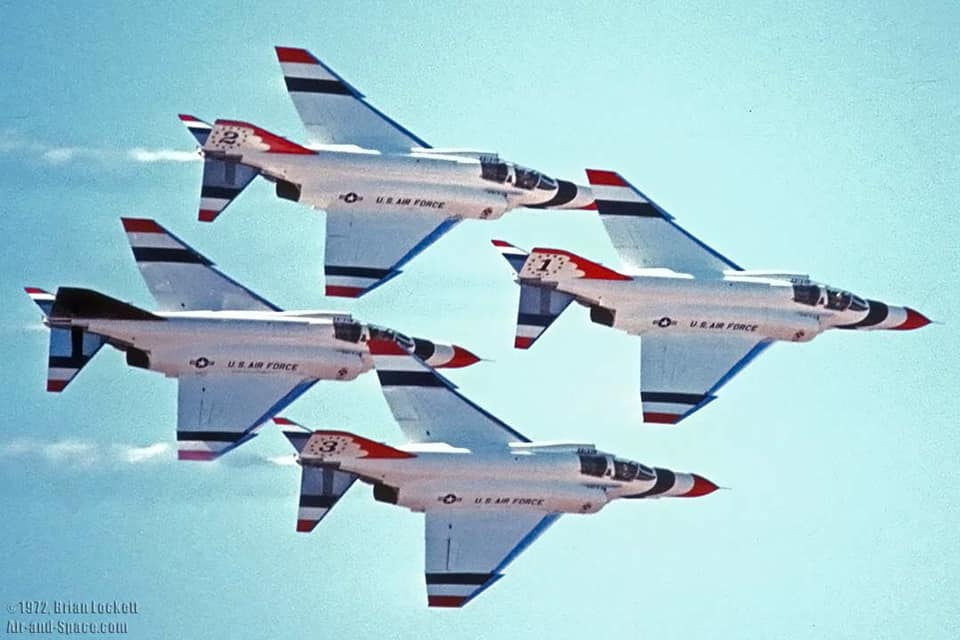F4: (270, 339, 733, 608), (490, 168, 946, 425), (23, 216, 496, 462), (177, 45, 598, 299)
